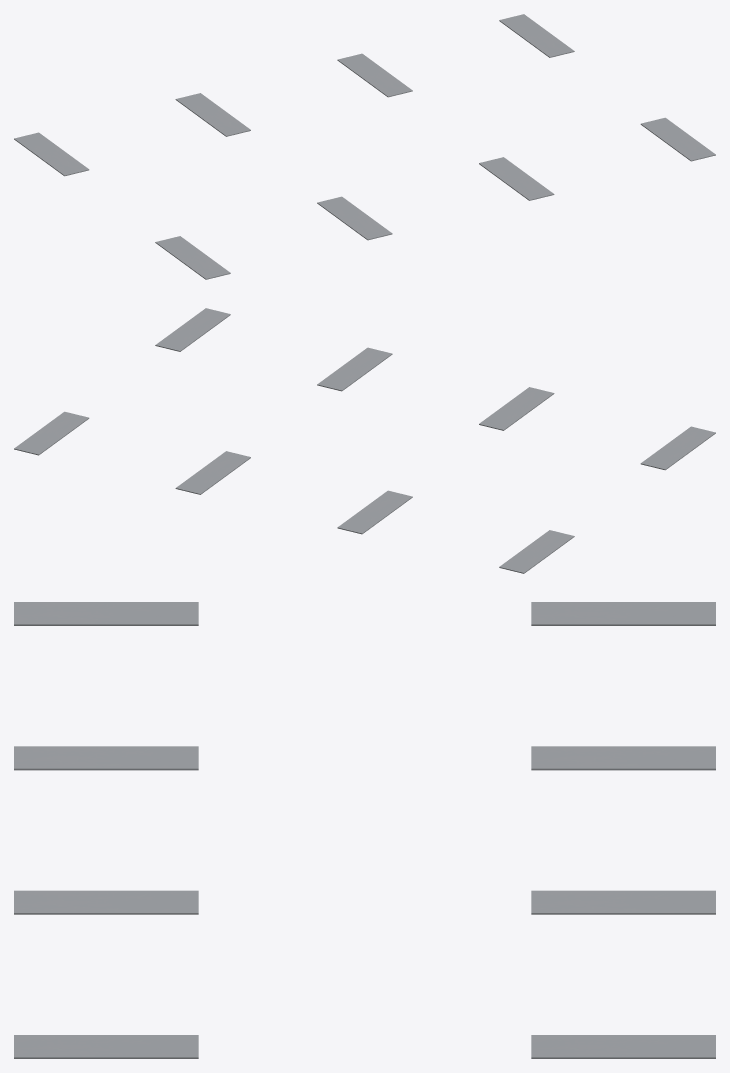
3 views of the same model, one above another, from view 1: azimuth 30°, elevation 25°; view 2: azimuth 150°, elevation 25°; view 3: azimuth 270°, elevation 25° (orthographic). The views are drawn at different scales.
Visible parts, largest first — view 1: 전등; view 2: 전등; view 3: 전등.
Part boxes in pixels (x1,y1,x2,y2): 전등: [14, 14, 715, 279]; 전등: [14, 308, 715, 573]; 전등: [14, 602, 715, 1058].
Size of the model in its own units: 1950 by 3.48 by 1271.
